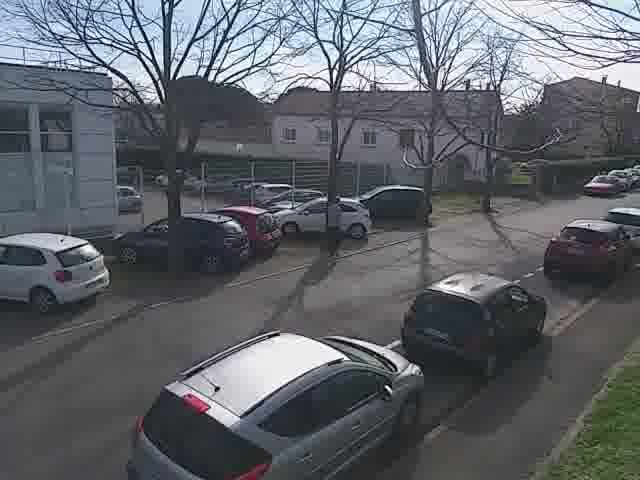persona: (319, 188, 349, 259)
